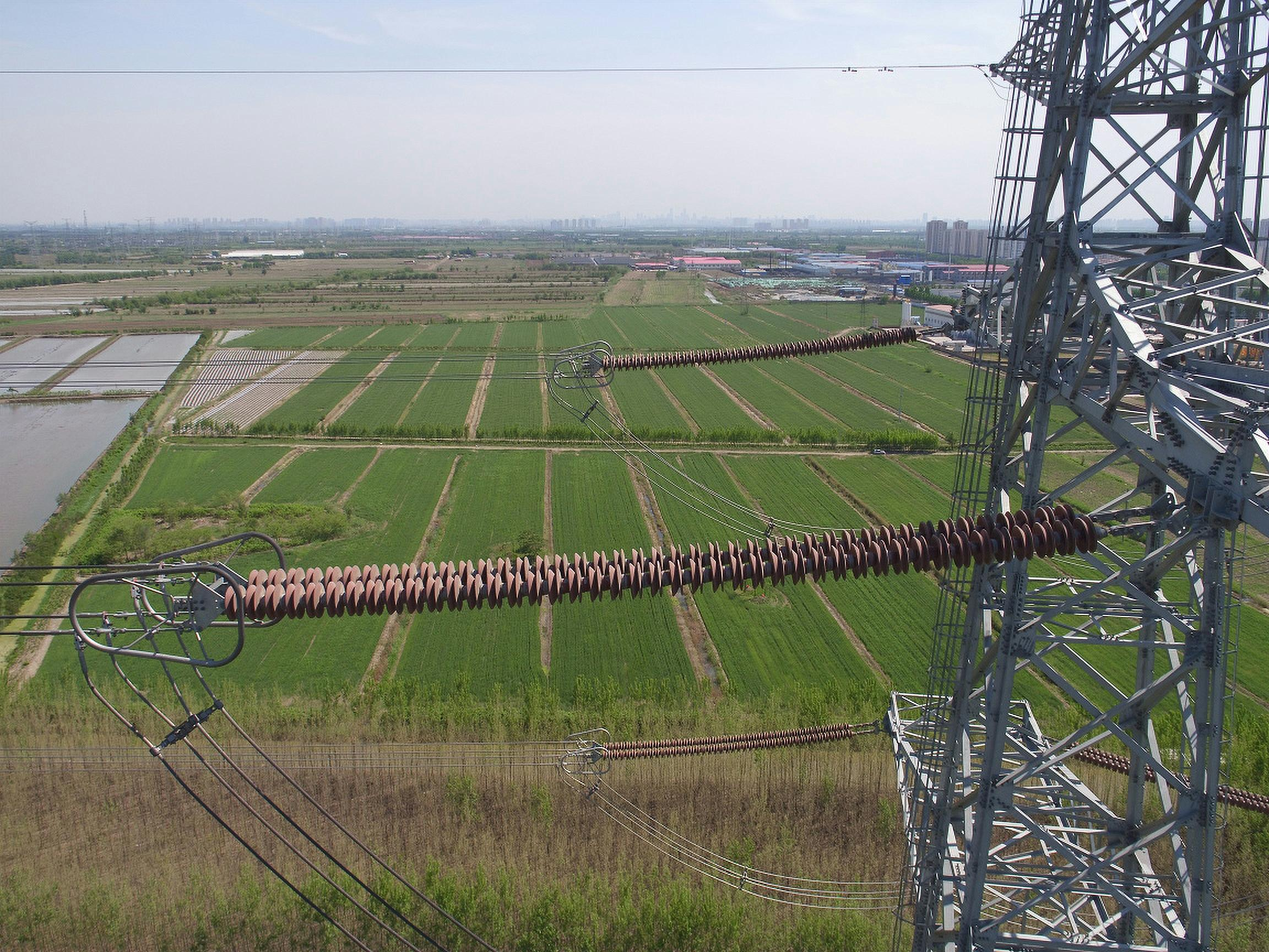insulator: (218, 496, 1105, 630), (1067, 738, 1269, 819), (600, 325, 918, 374), (600, 720, 855, 763)
